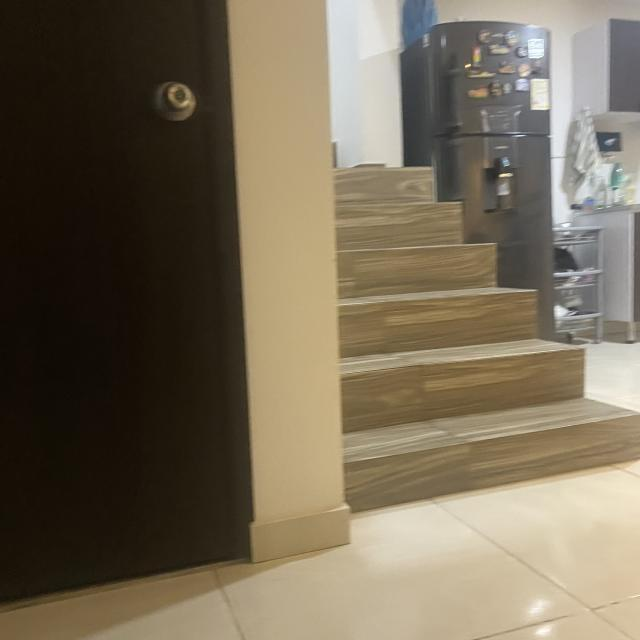door: (0, 0, 267, 590)
stair: (311, 128, 640, 524)
